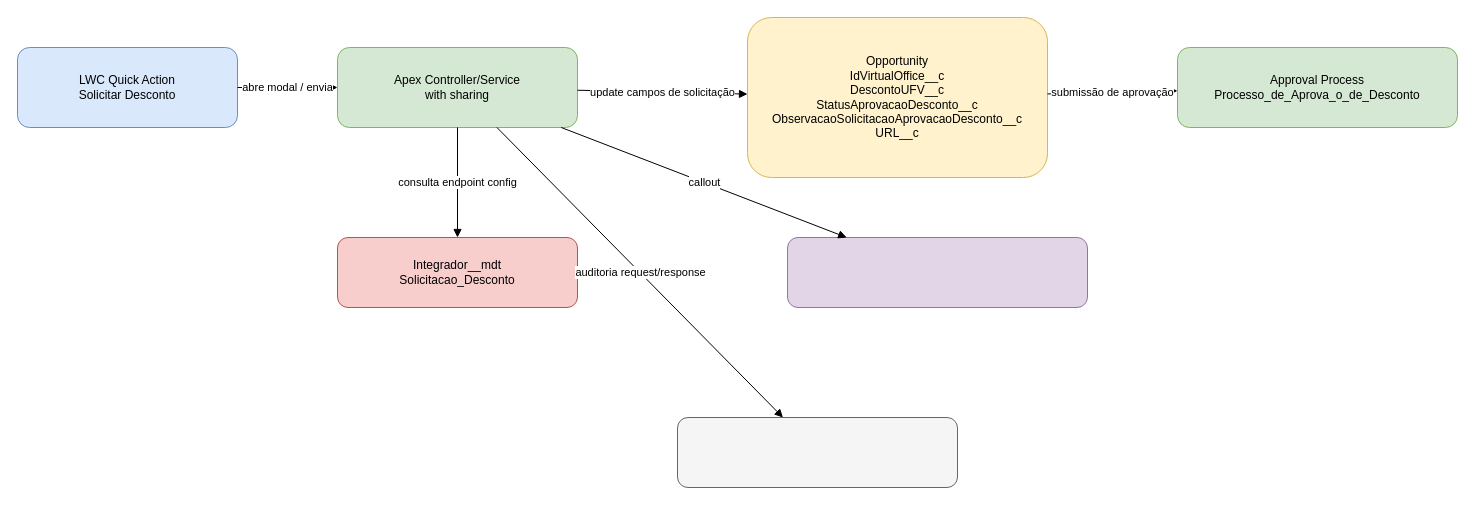
This 1475x505 diagram has some shape labels left out. The shapes that lost their labels are listed below. From the top down, each one's box as (x1, y1, x2, y2) in pixels, then its label:
(786, 236, 1088, 308): Endpoint Externo POST /api/Proposal/discount
(676, 416, 958, 488): Log__c (evidência técnica)
